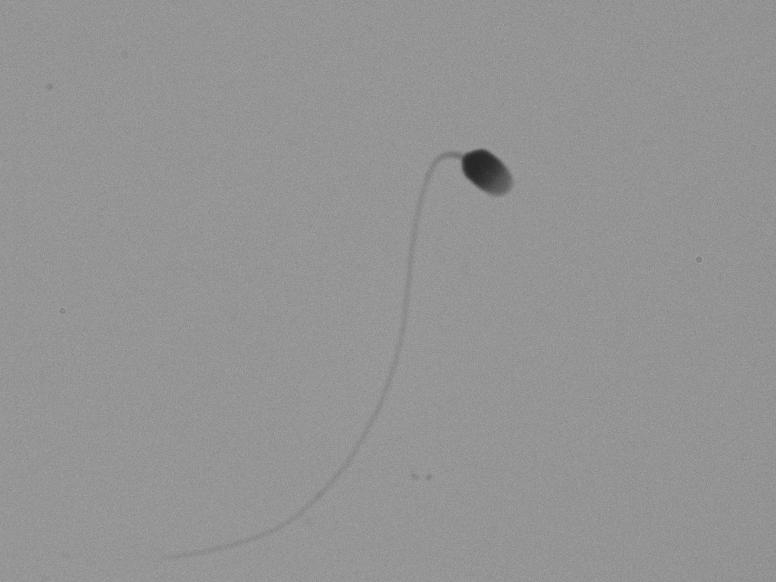Normal: (176, 104, 556, 562)
